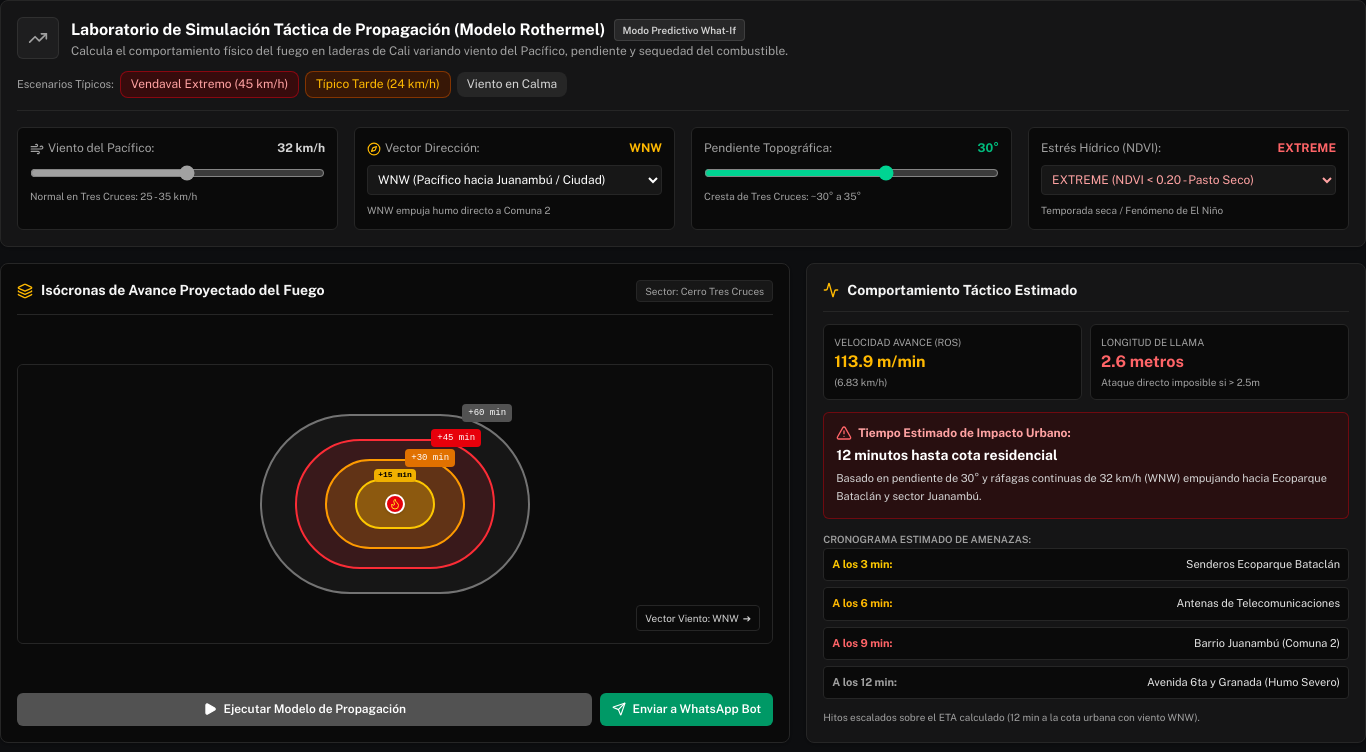
Test case: FireSpreadSimulator › transmite el escenario a /api/alerts y dispara el despacho de WhatsApp
The image size is (1366, 752).
Click the button "Enviar a WhatsApp Bot": (687, 709) [600,693,773,726]
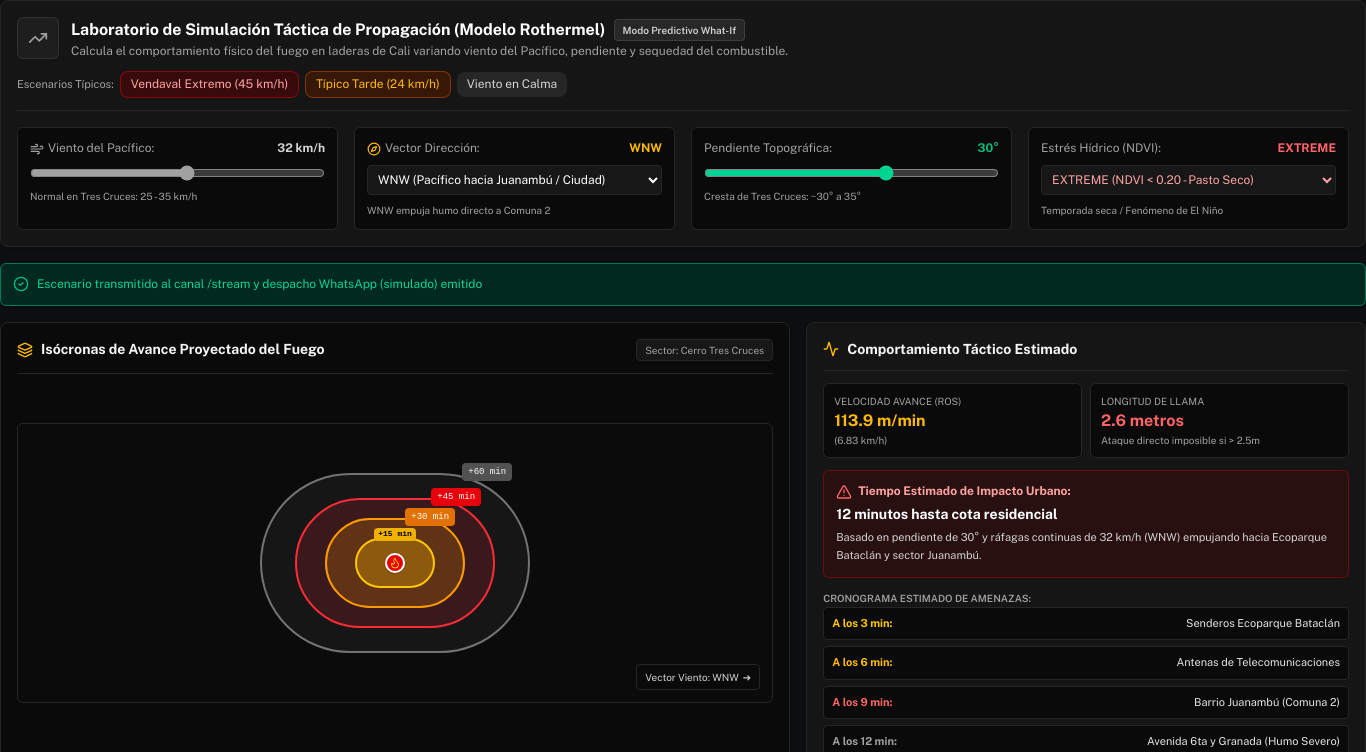
Expected: the text "WNW" is shown, [629,140,662,157]
Expected: the message shows "despacho WhatsApp (simulado) emitido", [37,277,482,291]
